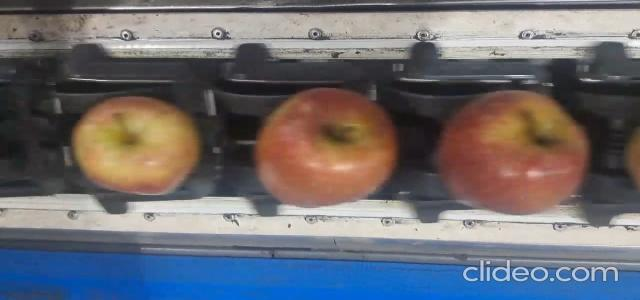apple: (436, 91, 589, 214), (255, 89, 399, 207), (72, 97, 200, 194)
